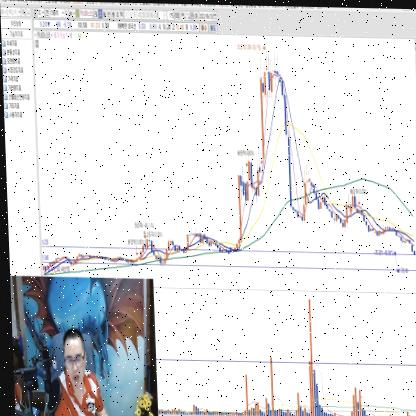streamer: (44, 325, 107, 416)
